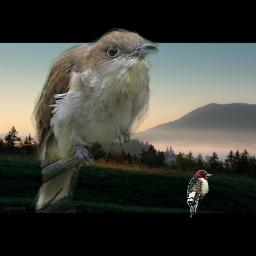Cuckoo: (30, 28, 159, 213)
Woodpecker: (187, 170, 213, 218)
